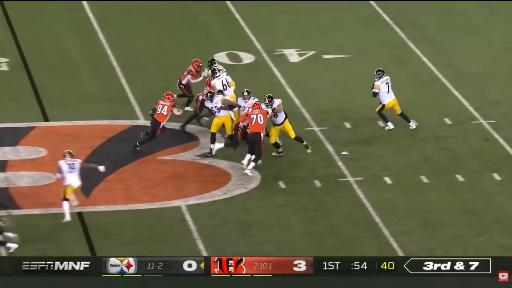Helmet: (211, 67, 221, 78), (208, 58, 218, 69), (192, 59, 202, 70), (375, 69, 384, 81), (242, 89, 251, 101), (264, 95, 273, 107), (205, 91, 215, 101), (163, 92, 174, 101), (252, 101, 261, 110), (64, 150, 74, 158), (206, 78, 211, 88), (215, 90, 223, 94)
Jersey: (240, 109, 267, 133), (58, 159, 81, 187), (373, 76, 395, 104), (205, 95, 230, 117), (154, 100, 176, 124), (212, 74, 234, 95), (180, 66, 200, 85), (238, 97, 257, 113), (263, 99, 281, 109), (215, 65, 229, 75)
Player: (214, 101, 270, 175), (56, 151, 105, 221), (133, 92, 182, 150), (264, 95, 311, 155), (372, 69, 416, 129), (241, 101, 271, 175), (205, 91, 239, 156), (180, 78, 212, 130), (177, 59, 203, 111), (234, 89, 258, 135), (211, 66, 236, 102), (211, 67, 236, 102), (226, 118, 247, 149), (0, 222, 18, 252), (238, 89, 257, 116), (208, 58, 228, 75)
